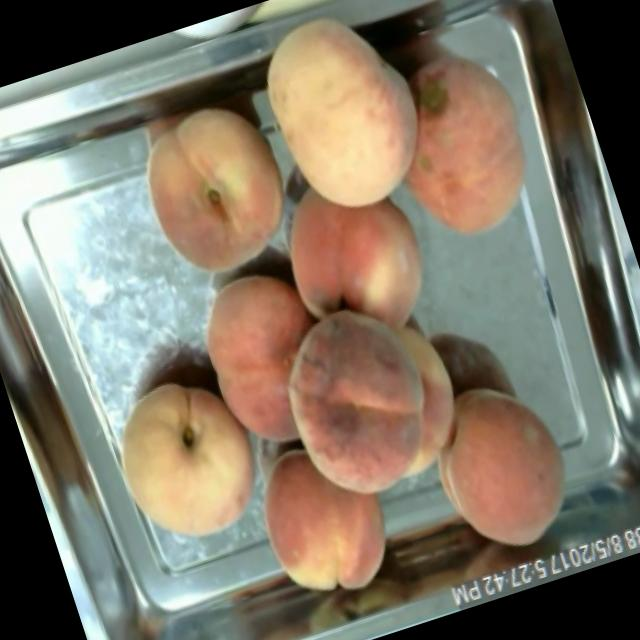Fruit: (248, 270, 484, 528), (234, 0, 456, 240), (354, 24, 567, 268), (88, 352, 289, 568), (117, 84, 318, 298), (405, 360, 597, 578), (256, 150, 452, 360), (175, 252, 351, 473), (233, 420, 415, 630)
